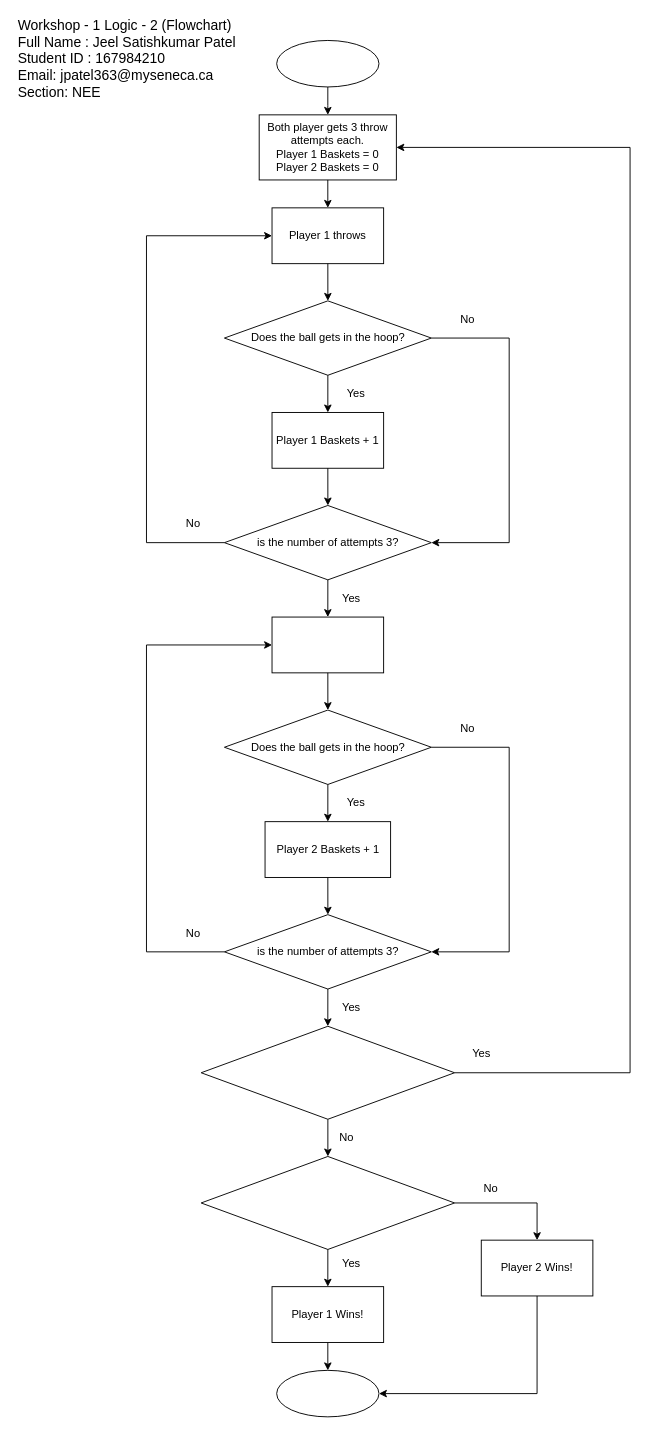
The diagram is 654 pixels wide and 1433 high, and some of its shapes have lost their labels. The shapes that lost their labels are listed below. From the top down, each one's box as (x1, y1, x2, y2) in pixels, then its label:
(276, 40, 379, 87): Start
(271, 616, 384, 673): Player 2 throws
(200, 1025, 455, 1119): are Player 1 Baskets = Player 2 Baskets?
(200, 1156, 455, 1249): are Player 1 Baskets > Player 2 Baskets?
(276, 1369, 379, 1417): End
